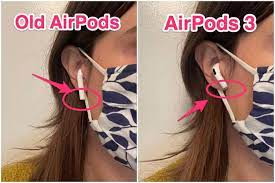earphone: (194, 41, 233, 90), (61, 45, 94, 100)
